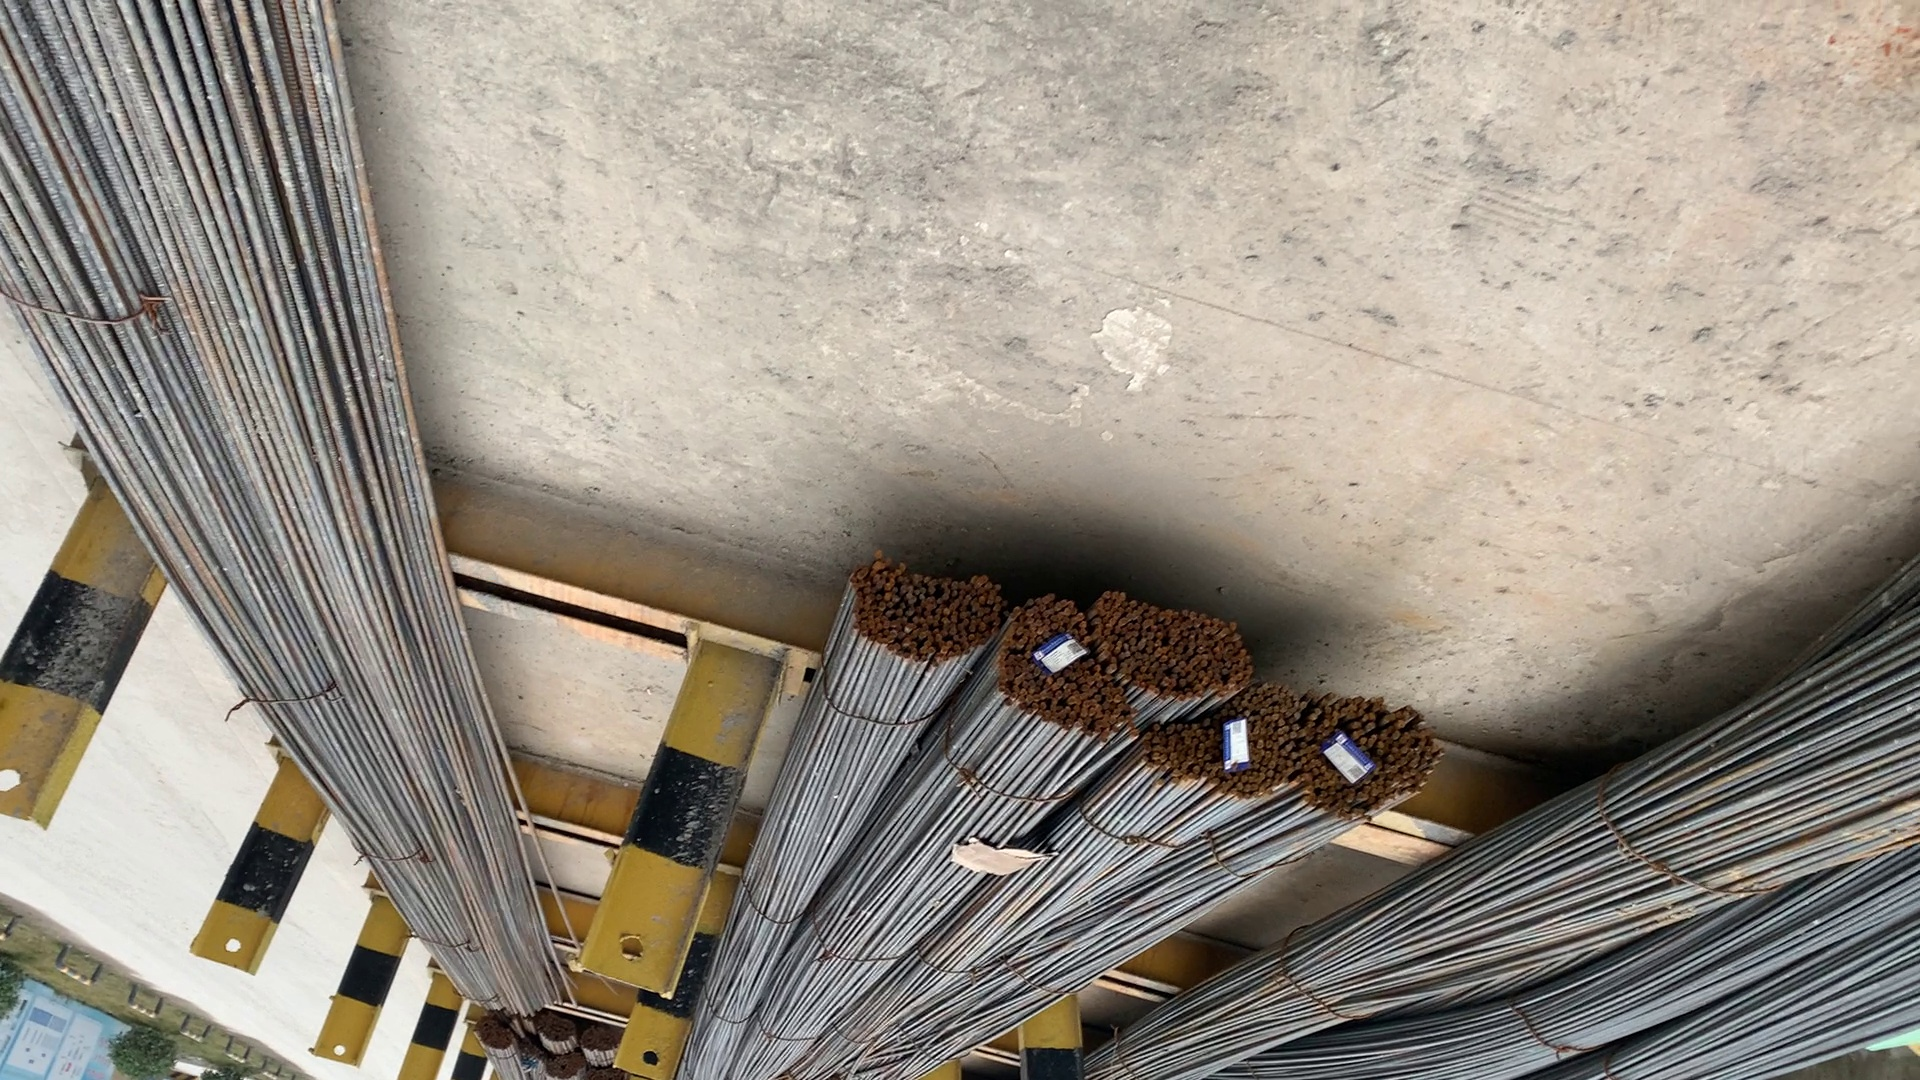rebar: (847, 556, 988, 688), (1004, 604, 1133, 748), (1097, 592, 1251, 705), (1150, 695, 1298, 802), (1305, 703, 1445, 815)
